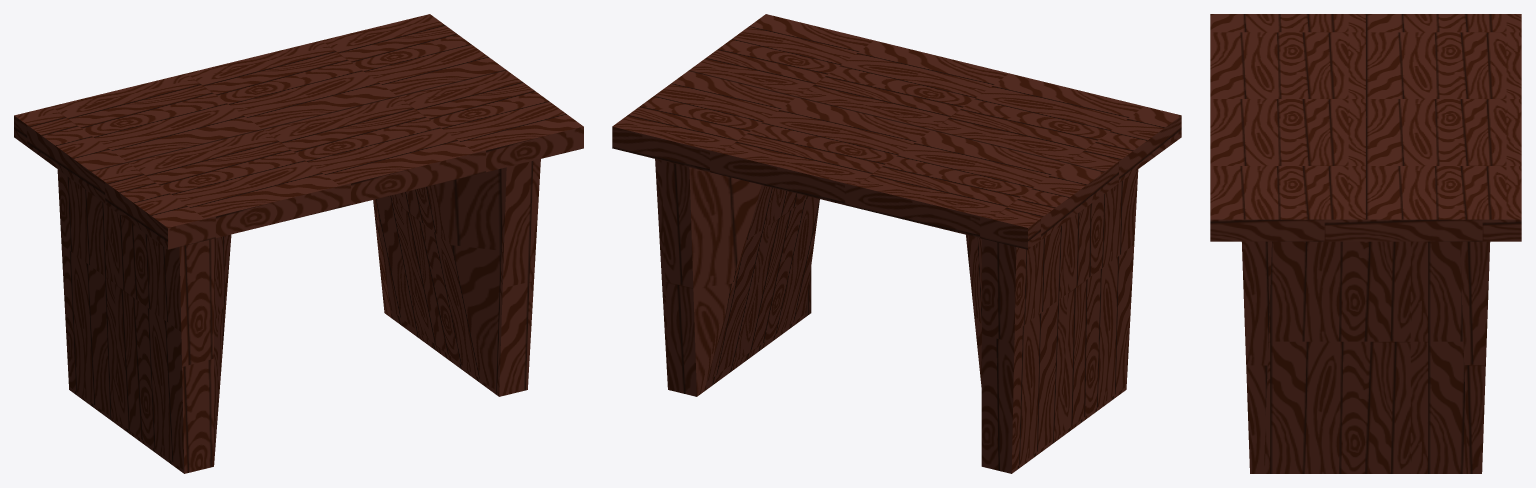
Rendered from Table.glb.
3 views of the same model, side by side, from view 1: azimuth 30°, elevation 25°; view 2: azimuth 150°, elevation 25°; view 3: azimuth 270°, elevation 25° (orthographic).
Parts seen in each view (by area): view 1: Cube; view 2: Cube; view 3: Cube.
Part boxes in pixels (box(x1,y1,x2,y2)): Cube: box(14, 14, 583, 473); Cube: box(612, 14, 1181, 473); Cube: box(1210, 14, 1521, 473).
Bounding box in the file's own units: 3.12 × 1.93 × 2.
Materials: 1 (1 with a texture image).
